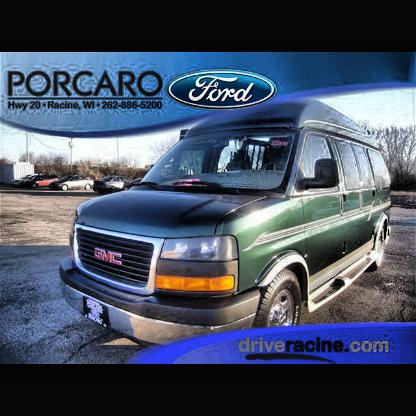GMC Savana Van 2012: (58, 99, 394, 354)
